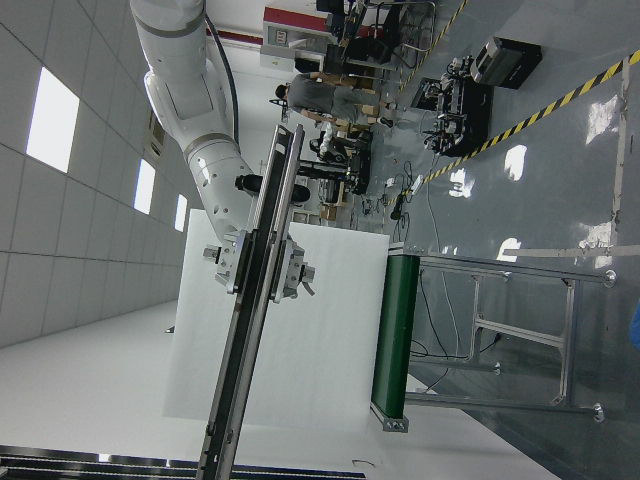left: (198, 119, 308, 479)
